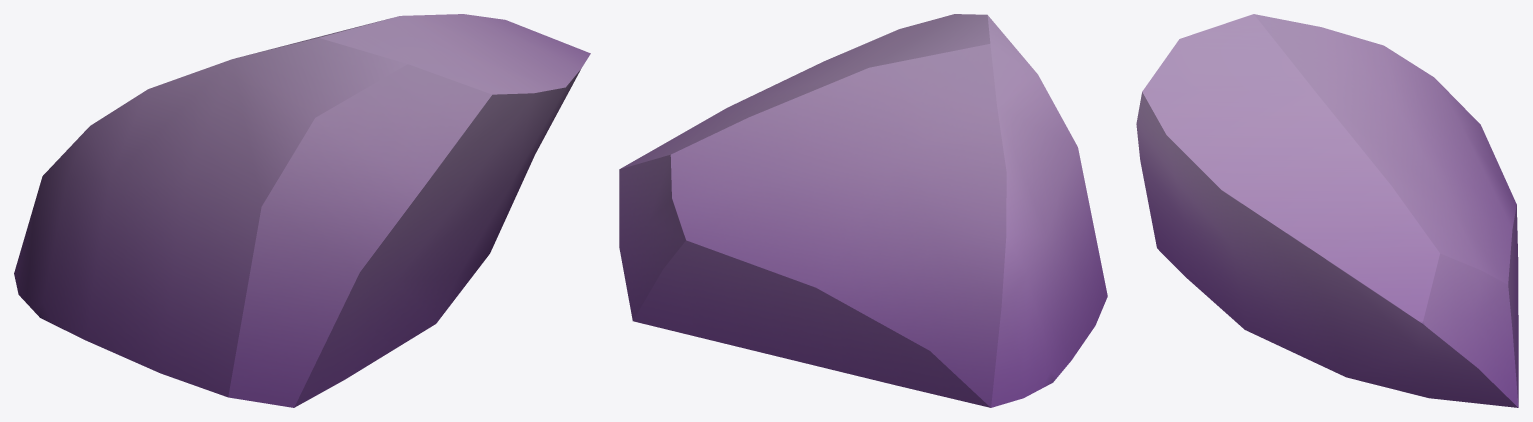
File: Night_Stone_009.FBX
3 renders of one model, left to right at view 1: azimuth 30°, elevation 25°; view 2: azimuth 150°, elevation 25°; view 3: azimuth 270°, elevation 25°, orthographic. The views are drawn at different scales.
Visible parts, largest first — view 1: Night_Stone_009; view 2: Night_Stone_009; view 3: Night_Stone_009.
Part boxes in pixels (box(x1,y1,x2,y2)): Night_Stone_009: box(14, 14, 590, 407); Night_Stone_009: box(619, 14, 1107, 407); Night_Stone_009: box(1136, 14, 1518, 407).
Size of the model in its own units: 173 by 93.23 by 120.
Materials: 1 (1 with a texture image).
